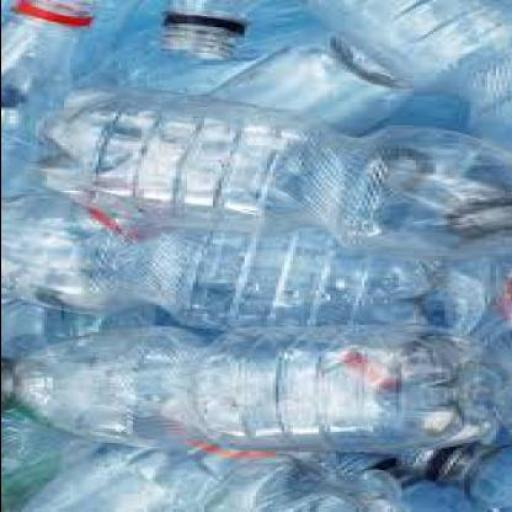plastic: (0, 1, 510, 510), (31, 87, 509, 260), (1, 192, 495, 346), (0, 326, 510, 460), (204, 29, 403, 136), (80, 1, 300, 94), (12, 445, 320, 510), (2, 0, 92, 197), (297, 0, 509, 80), (186, 452, 397, 510), (1, 292, 169, 358), (1, 404, 102, 510), (392, 436, 510, 510), (66, 0, 154, 80), (149, 0, 263, 60), (377, 461, 498, 510), (452, 65, 509, 153), (478, 323, 510, 444), (386, 90, 469, 135), (497, 250, 510, 349), (2, 359, 12, 411)
